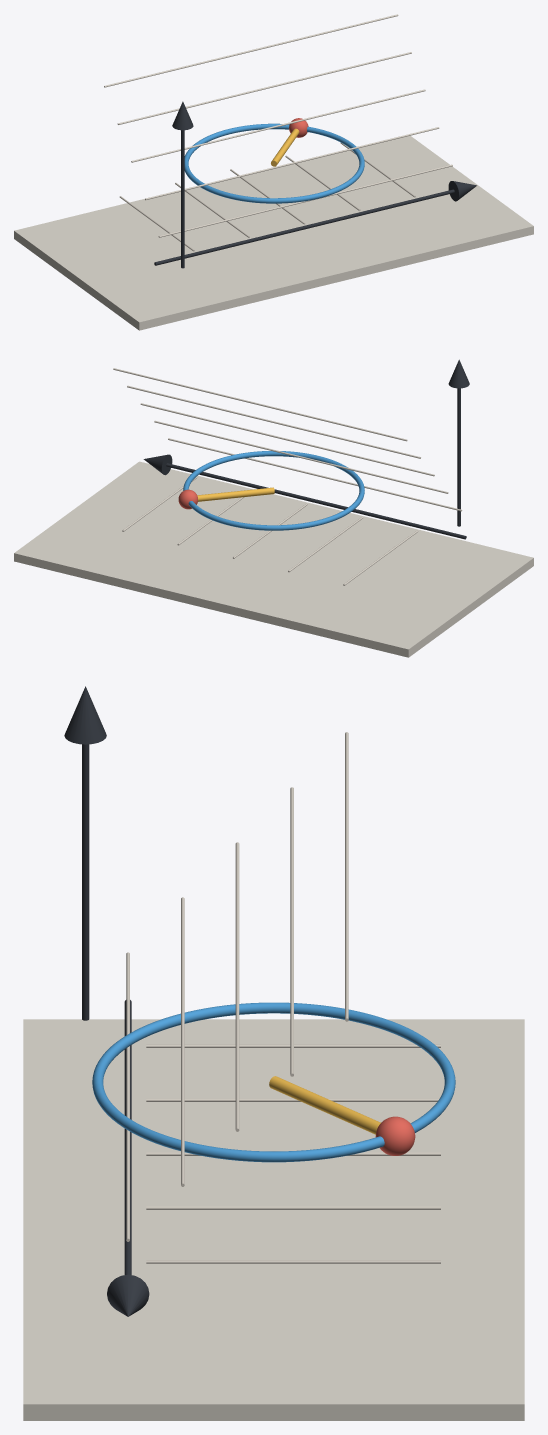
File: math-advanced-math-trig-unit-circle.glb
3 views of the same model, one above another, from view 1: azimuth 30°, elevation 25°; view 2: azimuth 150°, elevation 25°; view 3: azimuth 270°, elevation 25° (orthographic). The views are drawn at different scales.
Visible parts, largest first — view 1: advanced-math-base, unit-circle-ring, unit-circle-x-axis-shaft, unit-circle-horizontal-grid-5, unit-circle-horizontal-grid-3, unit-circle-horizontal-grid-2, unit-circle-horizontal-grid-4, unit-circle-horizontal-grid-1, unit-circle-y-axis-shaft; view 2: advanced-math-base, unit-circle-ring, unit-circle-x-axis-shaft, unit-circle-horizontal-grid-3, unit-circle-horizontal-grid-2, unit-circle-horizontal-grid-4, unit-circle-horizontal-grid-5, unit-circle-horizontal-grid-1, unit-radius, unit-circle-y-axis-shaft, unit-circle-y-axis-head; view 3: advanced-math-base, unit-circle-ring, unit-circle-y-axis-shaft, unit-radius, unit-circle-horizontal-grid-3, unit-circle-y-axis-head, unit-circle-x-axis-shaft, unit-circle-x-axis-head, point-on-unit-circle, unit-circle-vertical-grid-4, unit-circle-vertical-grid-5, unit-circle-horizontal-grid-4 (+5 smaller).
Part boxes in pixels (box(x1,y1,x2,y2)): advanced-math-base: box(14, 135, 533, 330); unit-circle-ring: box(184, 123, 364, 203); unit-circle-x-axis-shaft: box(154, 189, 454, 265); unit-circle-horizontal-grid-5: box(104, 14, 398, 87); unit-circle-horizontal-grid-3: box(131, 89, 425, 162); unit-circle-horizontal-grid-2: box(145, 127, 439, 200); unit-circle-horizontal-grid-4: box(117, 52, 411, 124); unit-circle-horizontal-grid-1: box(158, 164, 452, 237); unit-circle-y-axis-shaft: box(181, 130, 184, 268); advanced-math-base: box(14, 461, 533, 657); unit-circle-ring: box(183, 451, 364, 530); unit-circle-x-axis-shaft: box(166, 463, 466, 539); unit-circle-horizontal-grid-3: box(140, 403, 434, 476); unit-circle-horizontal-grid-2: box(154, 420, 448, 493); unit-circle-horizontal-grid-4: box(127, 385, 420, 458); unit-circle-horizontal-grid-5: box(113, 368, 407, 441); unit-circle-horizontal-grid-1: box(168, 438, 462, 511); unit-radius: box(197, 487, 274, 501); unit-circle-y-axis-shaft: box(457, 388, 460, 526); unit-circle-y-axis-head: box(448, 359, 469, 388); advanced-math-base: box(23, 1019, 524, 1420); unit-circle-ring: box(92, 1002, 455, 1162); unit-circle-y-axis-shaft: box(82, 744, 89, 1020); unit-radius: box(269, 1076, 380, 1134); unit-circle-horizontal-grid-3: box(235, 842, 239, 1131); unit-circle-y-axis-head: box(64, 686, 106, 744); unit-circle-x-axis-shaft: box(124, 1000, 131, 1274); unit-circle-x-axis-head: box(107, 1274, 149, 1316); point-on-unit-circle: box(375, 1116, 415, 1155); unit-circle-vertical-grid-4: box(146, 1206, 440, 1209); unit-circle-vertical-grid-5: box(146, 1260, 440, 1263); unit-circle-horizontal-grid-4: box(290, 787, 293, 1076).
Size of what is drawn, in the model's own units: 3 by 1.48 by 1.65.
